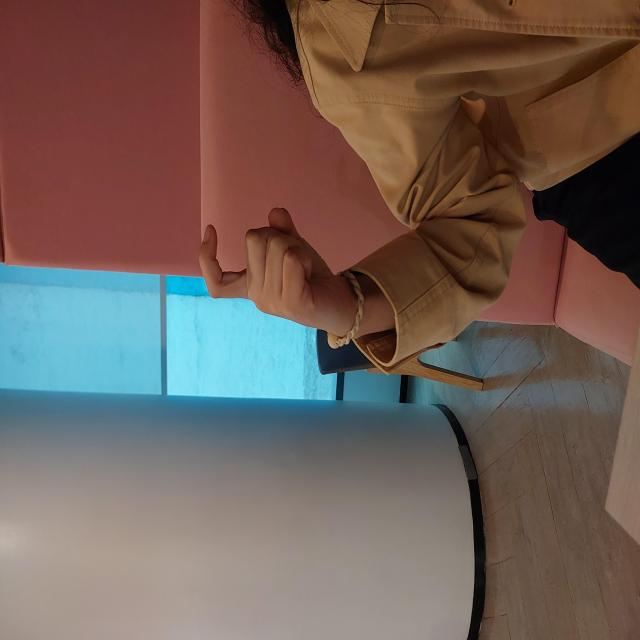X: (302, 192, 439, 366)
